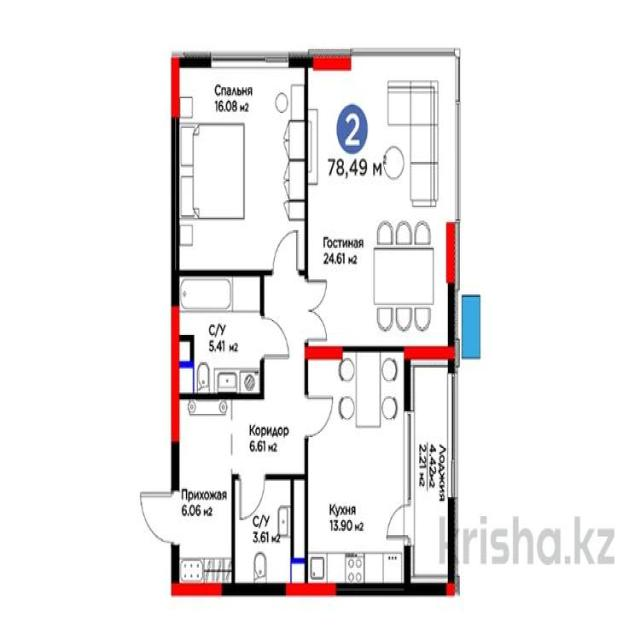balcony: (407, 351, 454, 588)
bathroom: (175, 273, 264, 397), (233, 474, 307, 587)
hallway: (231, 273, 307, 477), (174, 395, 232, 584)
kitchen: (307, 352, 406, 583)
living_room: (308, 52, 460, 353), (172, 58, 305, 274)
